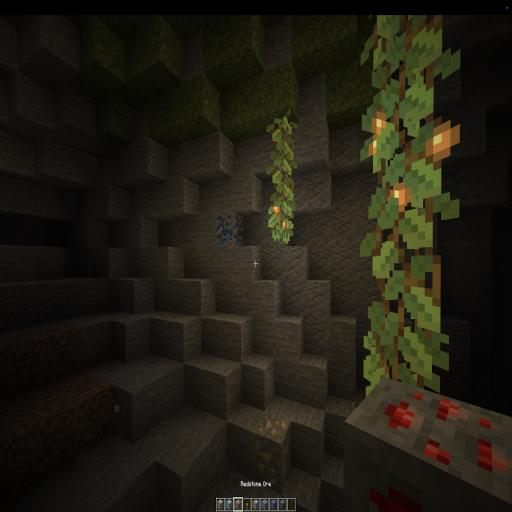iron ore: (254, 406, 292, 496)
lapis ore: (214, 213, 247, 246)
